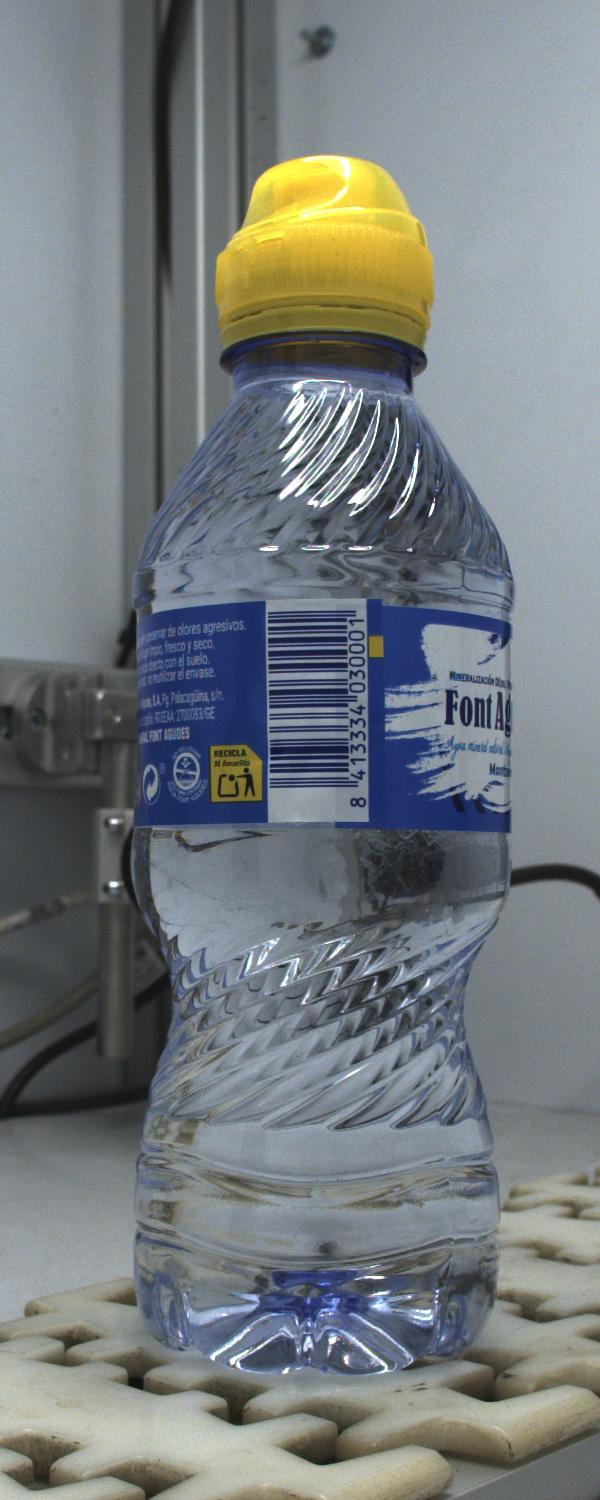bottle: (134, 157, 512, 1372)
cap: (215, 155, 433, 351)
